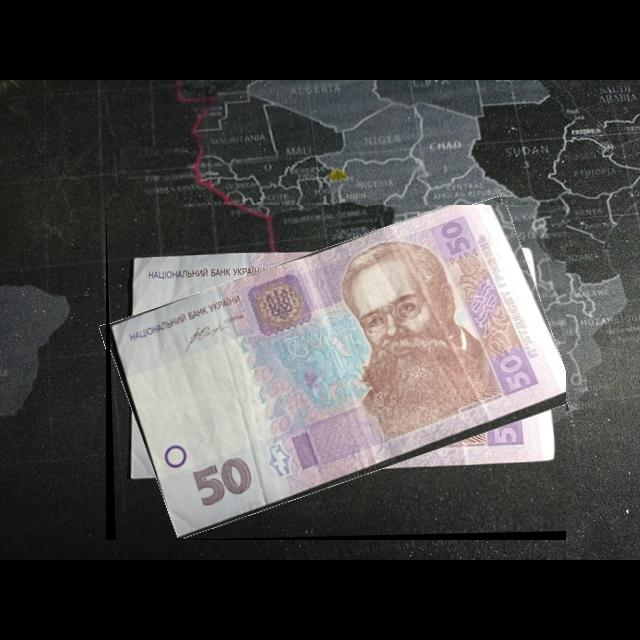50uah: (109, 205, 567, 540)
